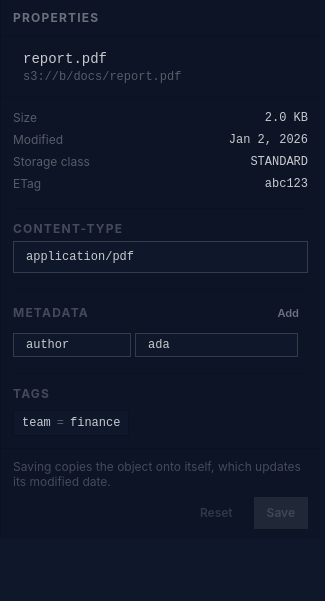
ObjectPropertiesPanel › saves the content type and metadata, then reloads
Replace the text in the field labelled "Content-Type" with " text/plain " at (160, 257), box [13, 241, 308, 273]
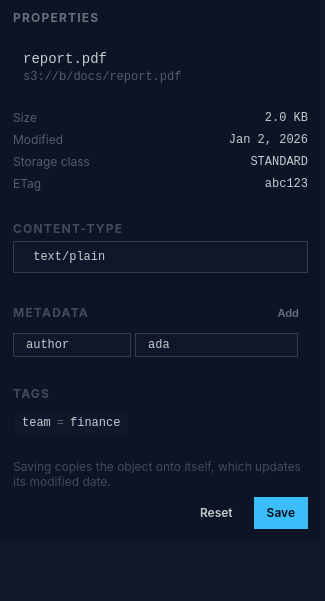
Replace the text in the field named "Metadata value 1" with "grace" at (216, 344), box [135, 332, 298, 356]
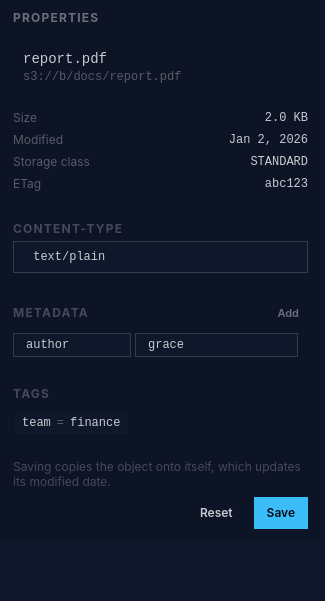
Click the button "Add" at (288, 313), box [268, 302, 308, 324]
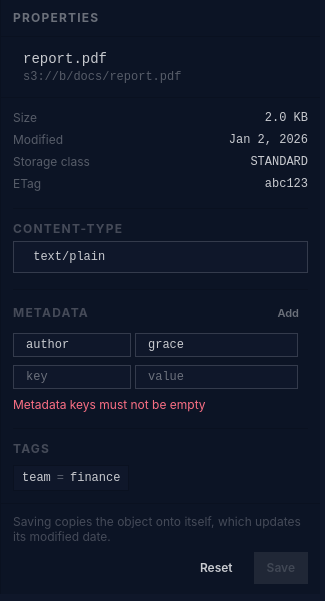
Type " Reviewed-By " into the field named "Metadata key 2" at (72, 376), box [13, 364, 131, 388]
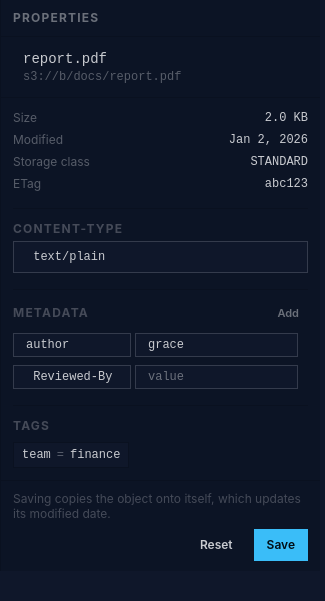
Type "linus" into the field named "Metadata value 2" at (216, 376), box [135, 364, 298, 388]
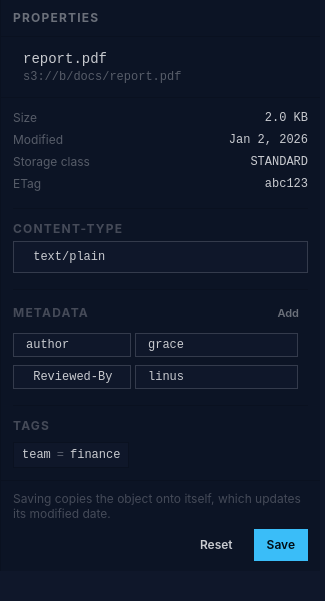
Click the button "Save" at (281, 544), box [254, 528, 308, 560]
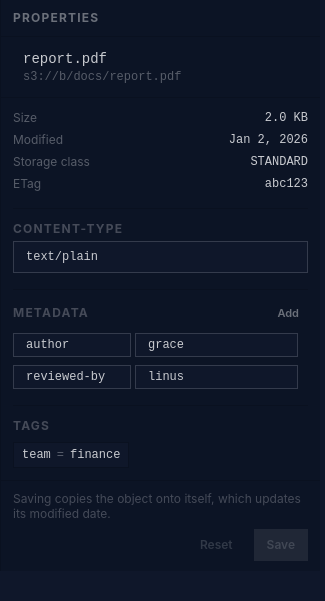
Check: the button "Save" is disabled, box [254, 528, 308, 560]
